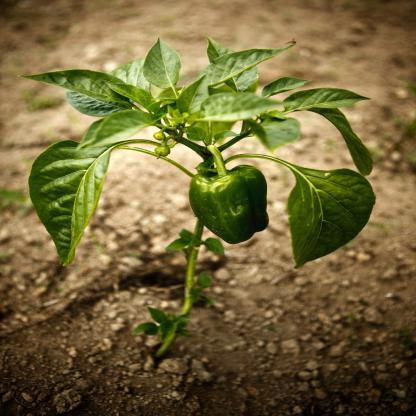Bell_pepper leaf spot: (282, 155, 376, 272), (27, 138, 111, 268), (21, 67, 134, 112), (196, 39, 301, 84), (194, 89, 282, 118), (285, 88, 373, 115), (139, 36, 180, 89)
